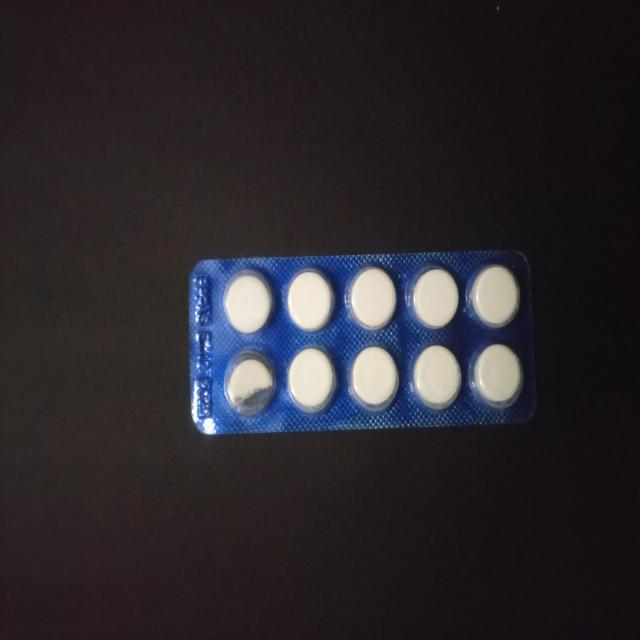defect: (221, 347, 278, 420)
